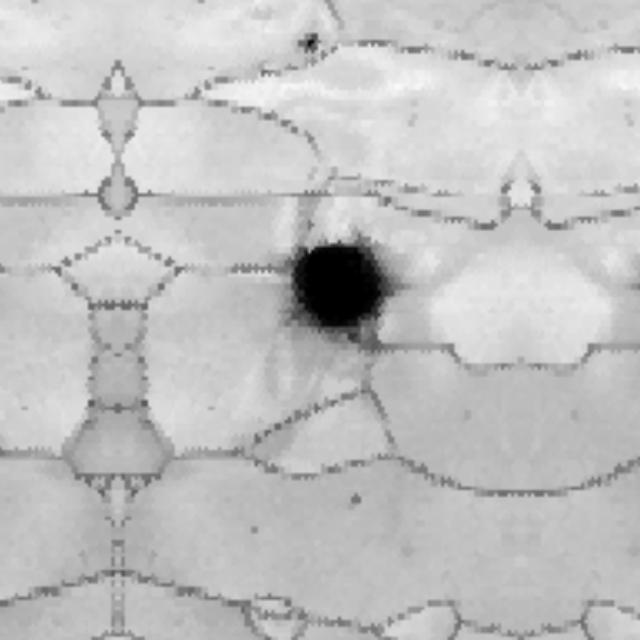good_void: (250, 195, 440, 389), (288, 18, 333, 64), (335, 483, 371, 518), (243, 518, 263, 544), (299, 215, 321, 237)
